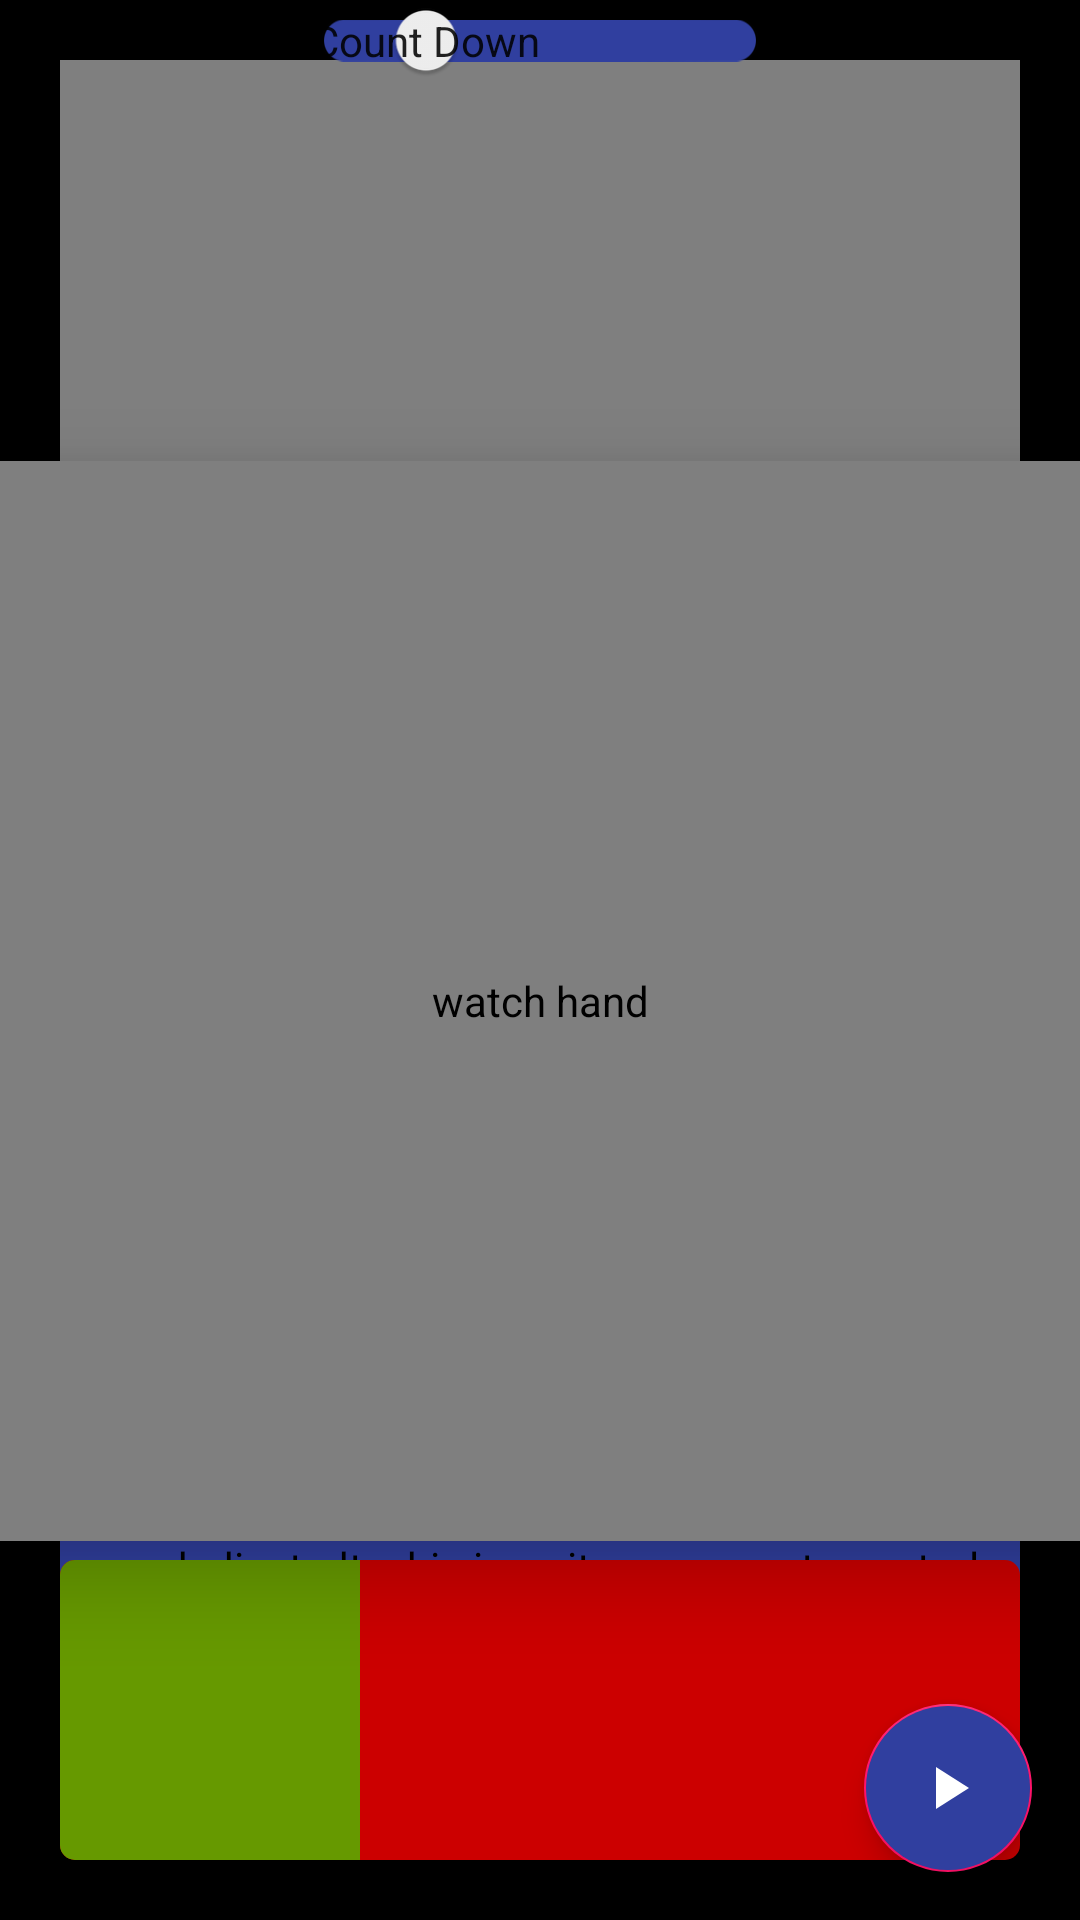

Named icons in this screenshot (1080px×1920px) and their centers, point (x, y):
play fab: point (948, 1788)
